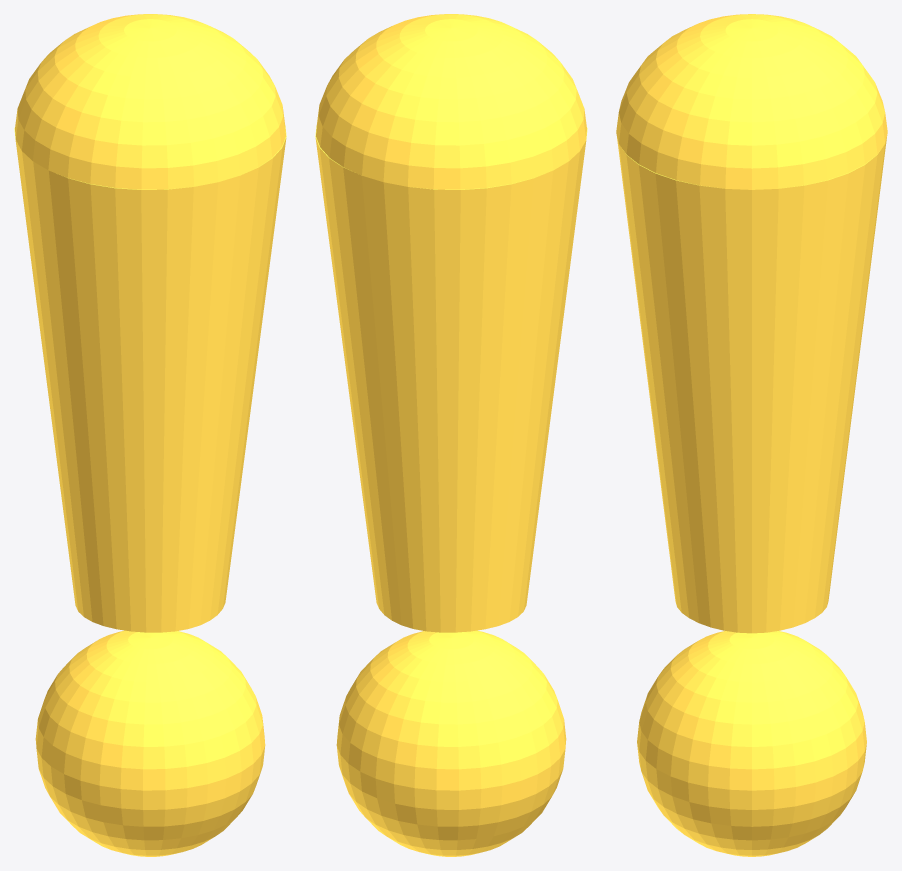
File: exclamationPoint.fbx
The picture shows the model from 3 angles, left to right: view 1: azimuth 30°, elevation 25°; view 2: azimuth 150°, elevation 25°; view 3: azimuth 270°, elevation 25°; orthographic projection.
Parts seen in each view (by area): view 1: Cylinder, Sphere, Sphere.001; view 2: Cylinder, Sphere, Sphere.001; view 3: Cylinder, Sphere, Sphere.001.
Part boxes in pixels (x1,y1,x2,y2): Cylinder: [14, 126, 286, 632]; Sphere: [35, 630, 265, 856]; Sphere.001: [15, 14, 285, 189]; Cylinder: [315, 126, 587, 632]; Sphere: [336, 630, 566, 856]; Sphere.001: [316, 14, 586, 189]; Cylinder: [616, 135, 887, 633]; Sphere: [637, 631, 866, 856]; Sphere.001: [616, 14, 887, 189].
Size of the model in its own units: 236 by 785 by 236.
